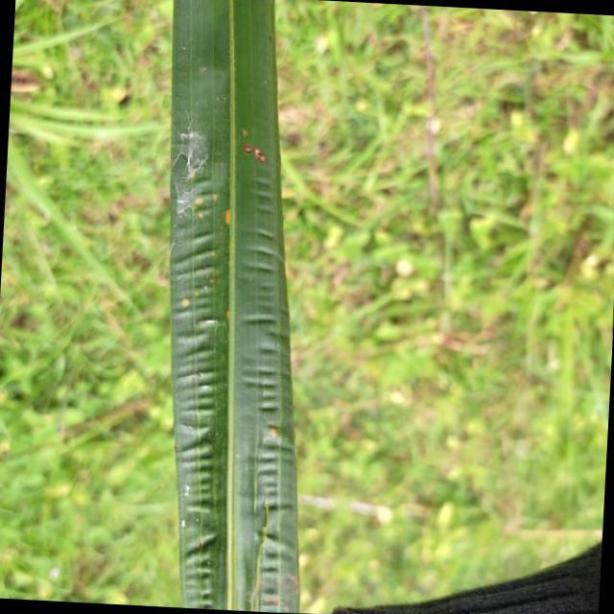Boron: (173, 0, 299, 614)
